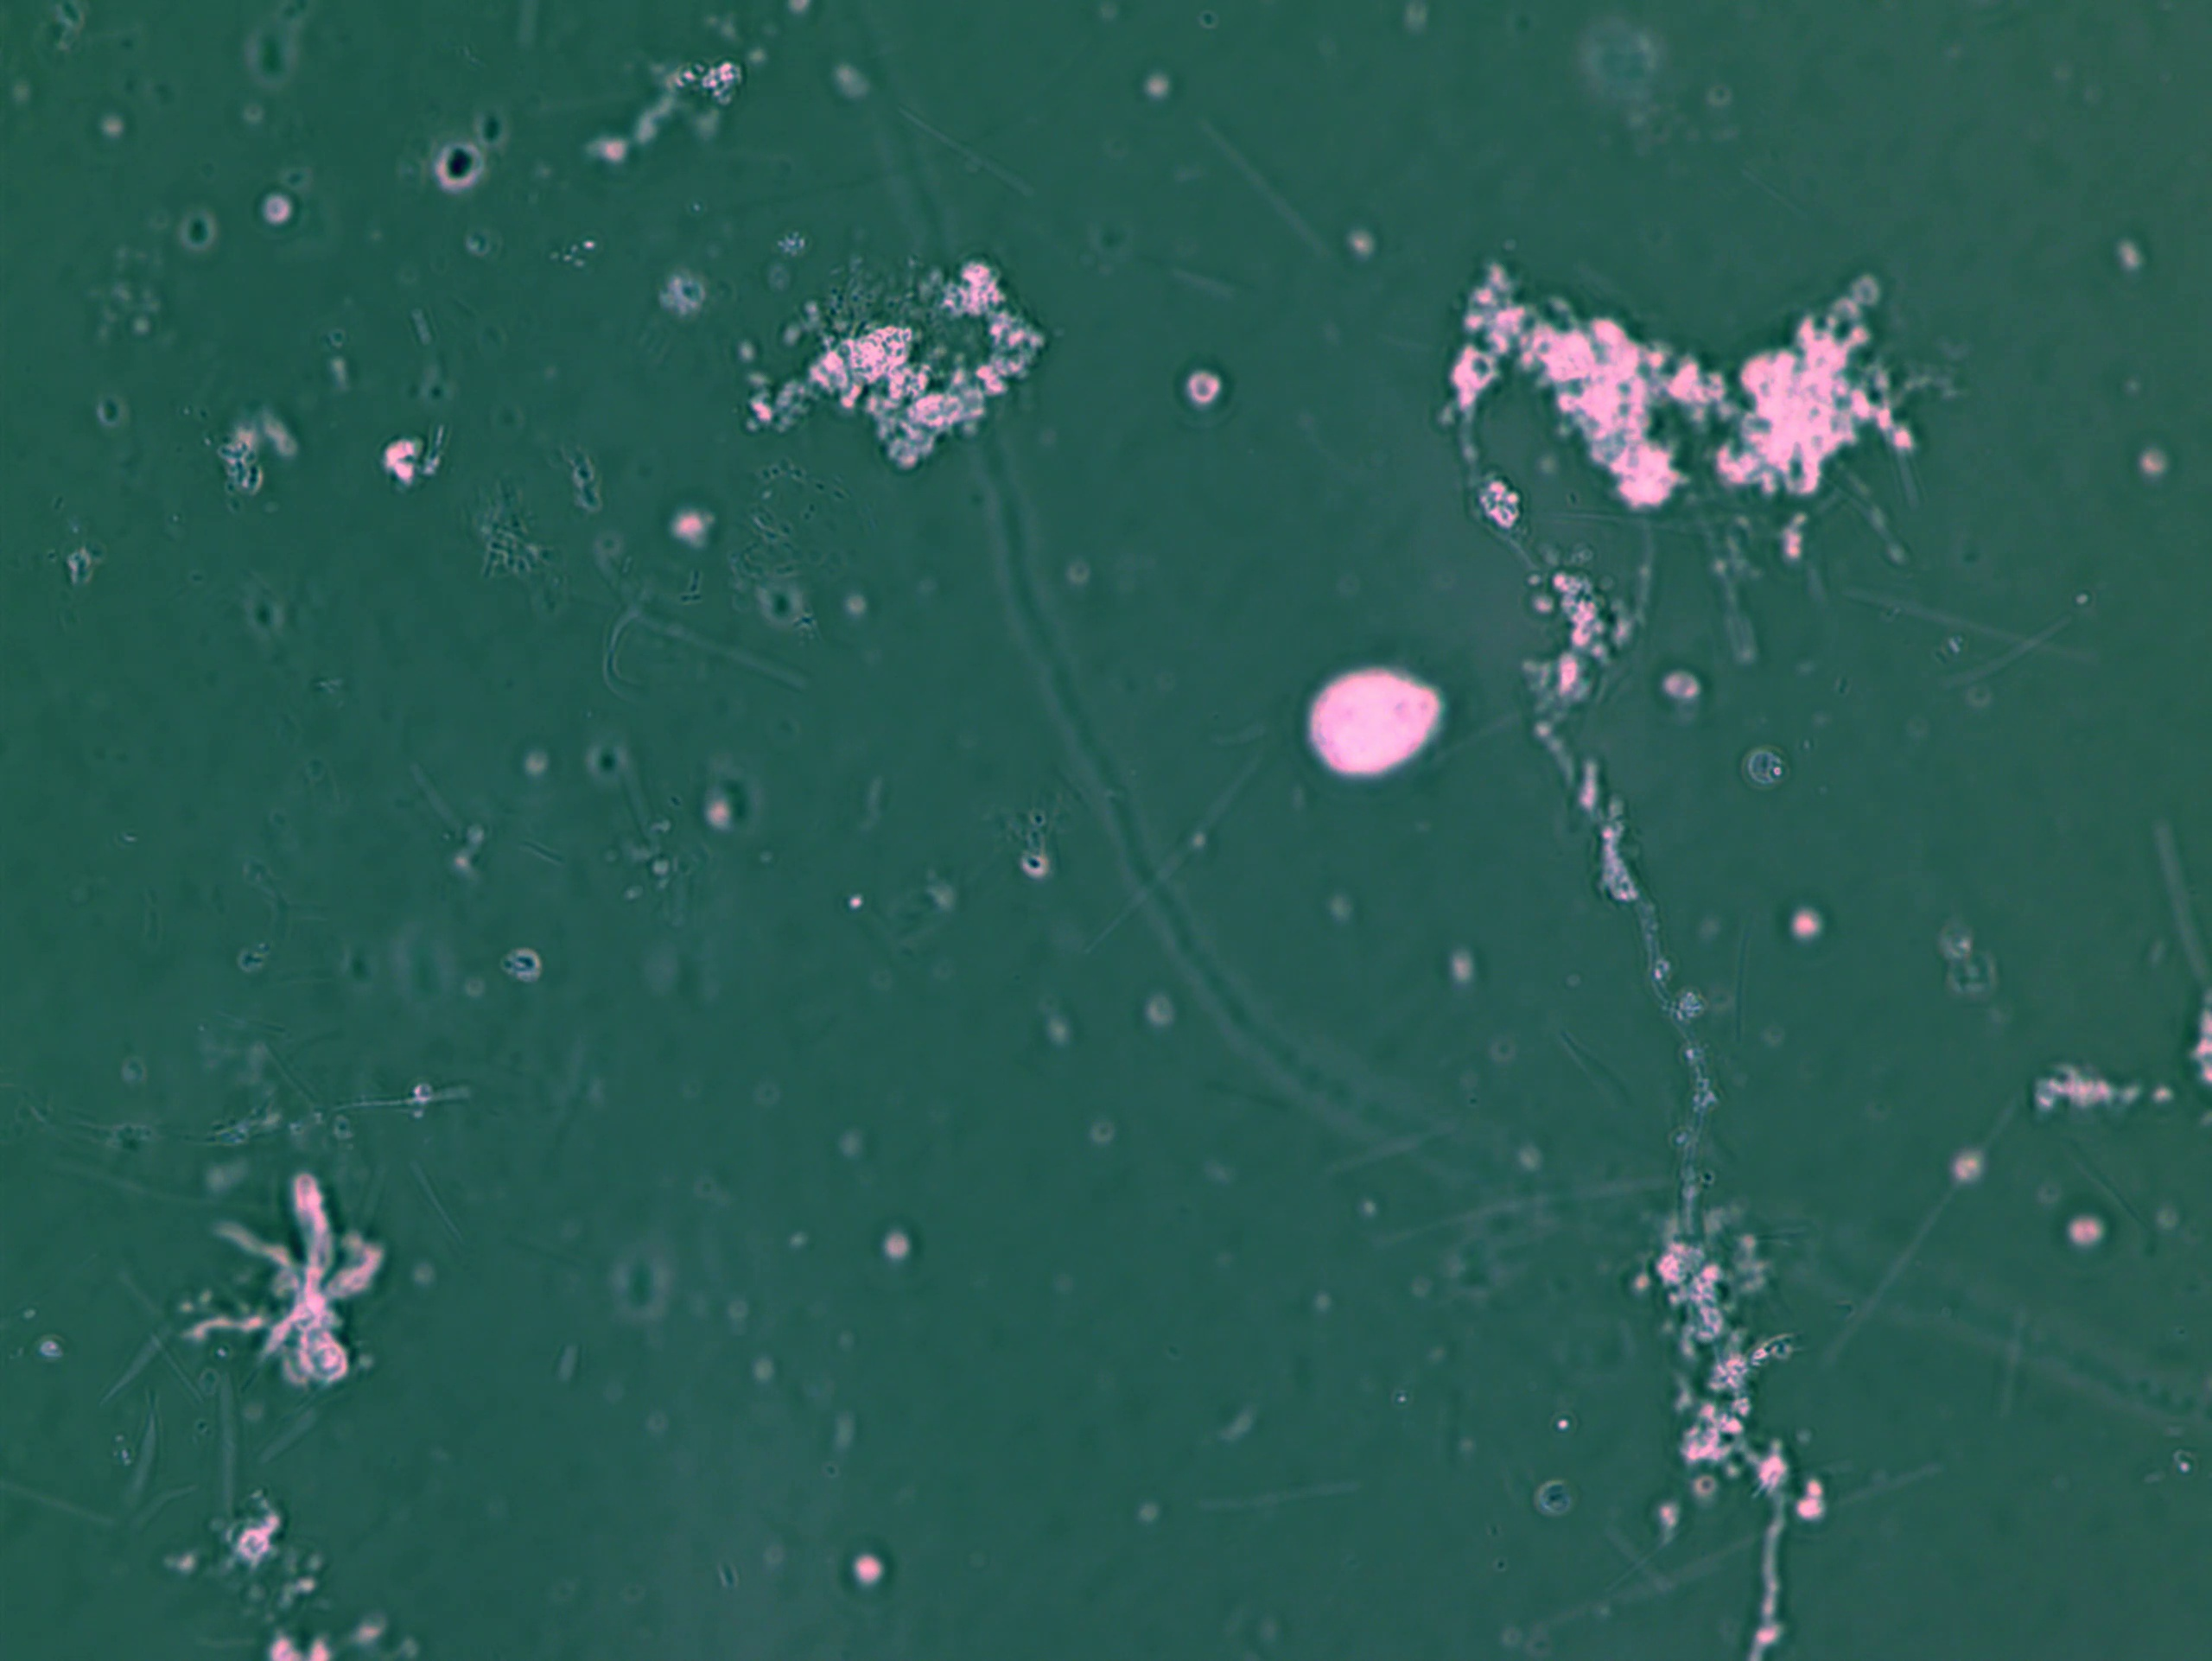depth:40: (1291, 619, 1479, 797)
